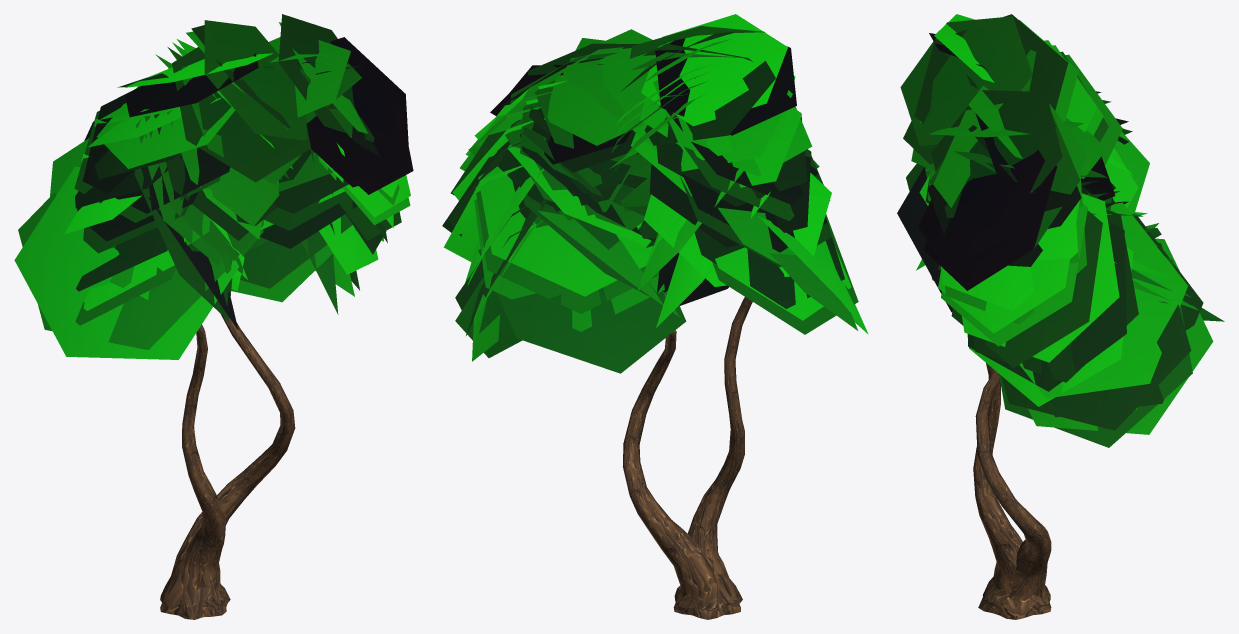
The model's file is FantasyTree4.fbx.
3 renders of one model, left to right at view 1: azimuth 30°, elevation 25°; view 2: azimuth 150°, elevation 25°; view 3: azimuth 270°, elevation 25°, orthographic. The views are drawn at different scales.
Visible parts, largest first — view 1: fantasyleaf2_alpha_1, tree2_0; view 2: fantasyleaf2_alpha_1, tree2_0; view 3: fantasyleaf2_alpha_1, tree2_0.
Part boxes in pixels (x1,y1,x2,y2): fantasyleaf2_alpha_1: (14,14,413,359); tree2_0: (160,314,295,619); fantasyleaf2_alpha_1: (442,14,868,373); tree2_0: (622,297,752,619); fantasyleaf2_alpha_1: (897,14,1224,447); tree2_0: (973,363,1051,619).
Size of the model in its own units: 388 by 566 by 285.
1 material, 1 textured.
